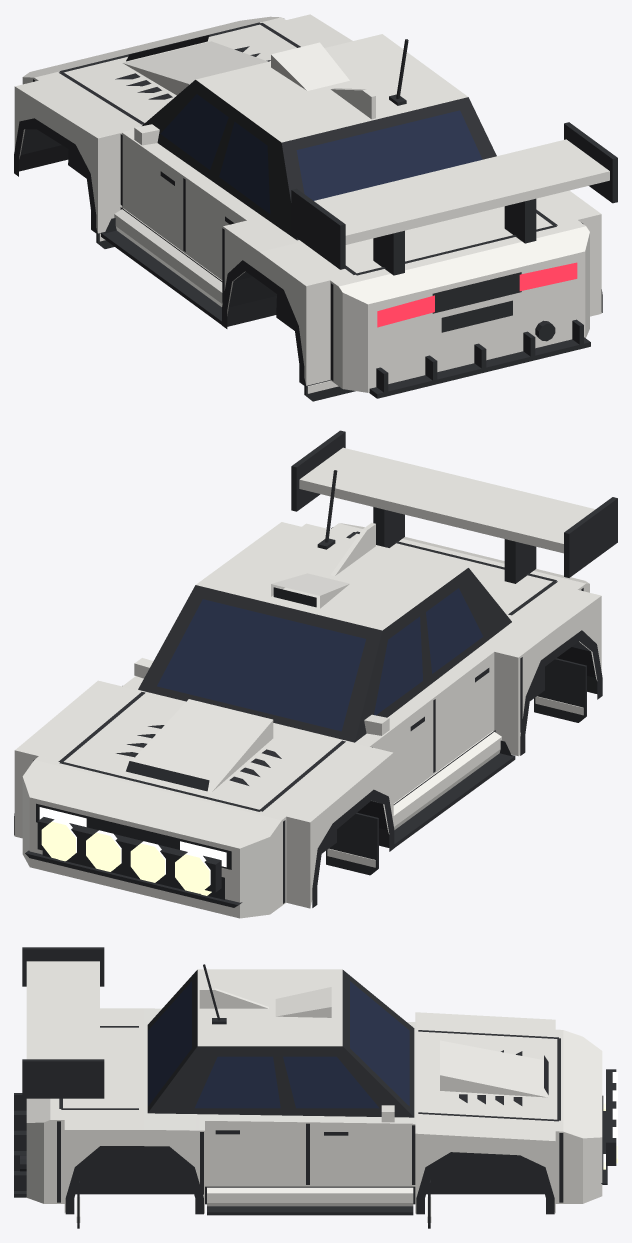
Rendered from Hayate.glb.
3 renders of one model, top to bottom at view 1: azimuth 30°, elevation 25°; view 2: azimuth 150°, elevation 25°; view 3: azimuth 270°, elevation 25°, orthographic. The views are drawn at different scales.
Visible parts, largest first — view 1: BumperRear, Opt_Wing_Rally_WingBlade, Roof, Hood, RearWindow, Pillars, Trunk, Door_FL, Opt_Wing_Rally_Wing, Fender_RL, Opt_Diffuser_Race_AccDiffuserRace, Opt_Hood_Scoop_HoodScoop (+23 smaller); view 2: Hood, Windshield, BumperFront, Roof, Opt_Wing_Rally_WingBlade, Pillars, Opt_Hood_Scoop_HoodScoop, Door_RL, Opt_Wing_Rally_Wing, Trunk, Fender_FL, Opt_Bumper_Lamps_RallyLamp (+24 smaller); view 3: Hood, Pillars, Roof, WheelWell, Opt_Wing_Rally_WingBlade, Door_RR, Door_FR, BumperFront, Trunk, Opt_Wing_Rally_Wing, Opt_Hood_Scoop_HoodScoop, Windshield (+17 smaller).
Part boxes in pixels (x1,y1,x2,y2): BumperRear: [335, 223, 589, 392]; Opt_Wing_Rally_WingBlade: [314, 139, 609, 244]; Roof: [196, 34, 467, 142]; Hood: [15, 14, 352, 137]; RearWindow: [296, 110, 482, 200]; Pillars: [142, 80, 496, 240]; Trunk: [260, 190, 601, 286]; Door_FL: [97, 132, 185, 253]; Opt_Wing_Rally_Wing: [291, 122, 617, 275]; Fender_RL: [226, 229, 334, 385]; Opt_Diffuser_Race_AccDiffuserRace: [369, 319, 590, 398]; Opt_Hood_Scoop_HoodScoop: [123, 41, 267, 95]; Hood: [15, 681, 392, 822]; Windshield: [157, 599, 365, 731]; BumperFront: [22, 760, 281, 918]; Roof: [196, 522, 468, 630]; Opt_Wing_Rally_WingBlade: [299, 447, 595, 553]; Pillars: [138, 568, 511, 742]; Opt_Hood_Scoop_HoodScoop: [123, 699, 273, 792]; Door_RL: [433, 652, 521, 774]; Opt_Wing_Rally_Wing: [291, 430, 617, 583]; Trunk: [302, 523, 601, 629]; Fender_FL: [281, 753, 392, 908]; Opt_Bumper_Lamps_RallyLamp: [41, 819, 210, 893]; Hood: [416, 1012, 563, 1140]; Pillars: [147, 970, 414, 1117]; Roof: [197, 969, 342, 1046]; WheelWell: [75, 1154, 544, 1194]; Opt_Wing_Rally_WingBlade: [26, 961, 99, 1059]; Door_RR: [199, 1121, 307, 1213]; Door_FR: [308, 1122, 416, 1213]; BumperFront: [563, 1030, 602, 1203]; Trunk: [57, 1008, 143, 1129]; Opt_Wing_Rally_Wing: [22, 947, 104, 1098]; Opt_Hood_Scoop_HoodScoop: [440, 1040, 548, 1097]; Windshield: [350, 981, 409, 1105].
Size of the model in its own units: 6.7 by 5.7 by 13.95.
